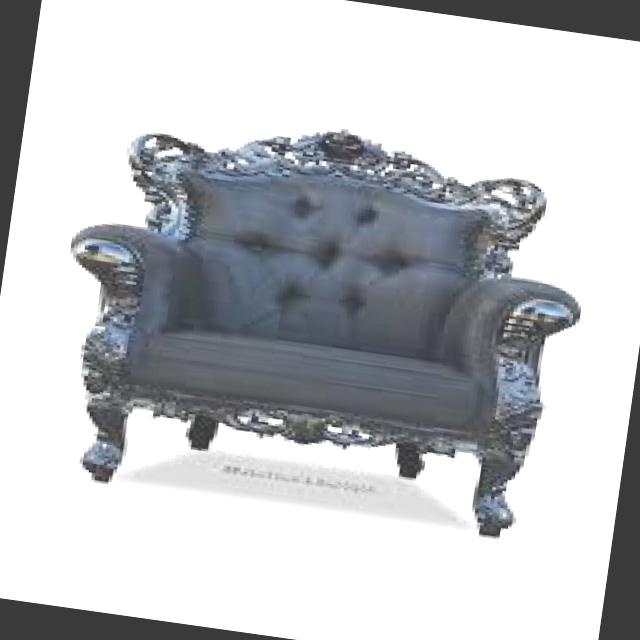obstacle: (42, 53, 640, 566)
